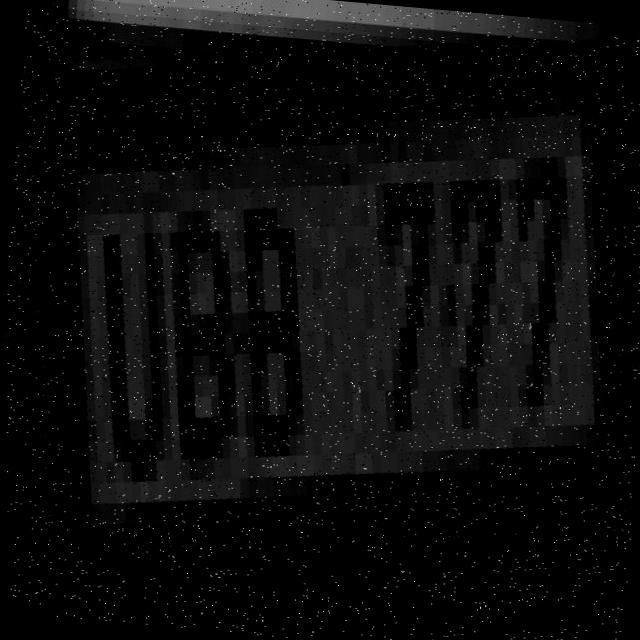LicensePlate: (0, 6, 640, 583)
